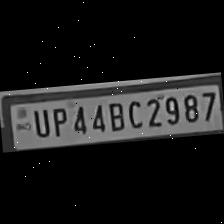2: (143, 94, 163, 128)
4: (68, 101, 89, 135), (86, 99, 106, 134)
7: (198, 88, 219, 122)
8: (179, 88, 201, 124)
9: (159, 90, 181, 126)
B: (105, 98, 126, 131)
C: (124, 96, 144, 130)
P: (46, 102, 69, 138)
U: (29, 104, 50, 138)
